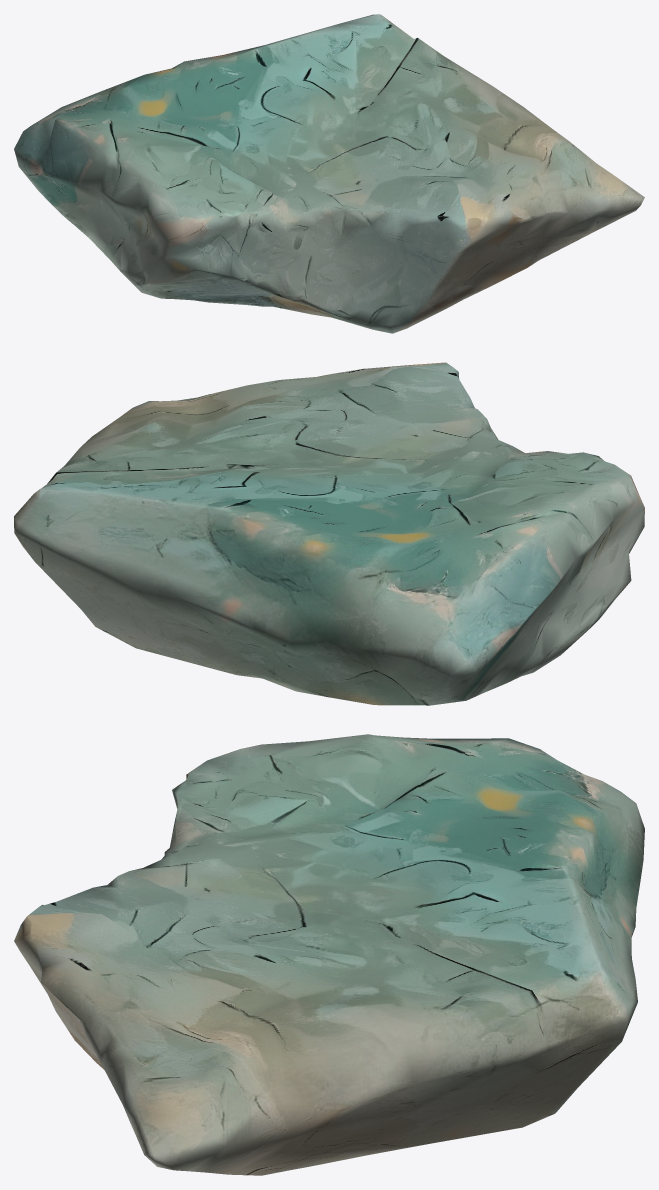
Rendered from weapon_ghost_flint_1500.glb.
3 renders of one model, top to bottom at view 1: azimuth 30°, elevation 25°; view 2: azimuth 150°, elevation 25°; view 3: azimuth 270°, elevation 25°, orthographic. The views are drawn at different scales.
Parts seen in each view (by area): view 1: tripo_node_25f79655-5d4e-4274-a7db-51abc955b53b; view 2: tripo_node_25f79655-5d4e-4274-a7db-51abc955b53b; view 3: tripo_node_25f79655-5d4e-4274-a7db-51abc955b53b.
Boxes of the visible parts, <box> form: tripo_node_25f79655-5d4e-4274-a7db-51abc955b53b: <box>14,14,644,333</box>; tripo_node_25f79655-5d4e-4274-a7db-51abc955b53b: <box>14,362,644,705</box>; tripo_node_25f79655-5d4e-4274-a7db-51abc955b53b: <box>14,734,644,1175</box>.
Bounding box in the file's own units: 0.9783 × 0.3113 × 0.8409.
1 material, 1 textured.
